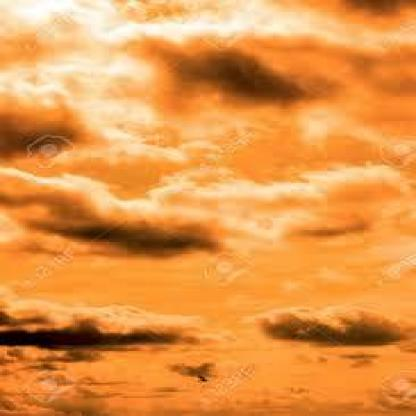bird: (194, 373, 224, 397)
